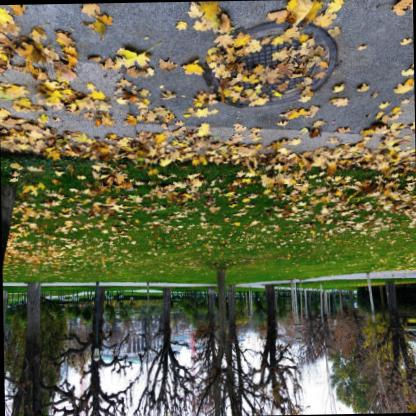manholes: (178, 0, 352, 130)
